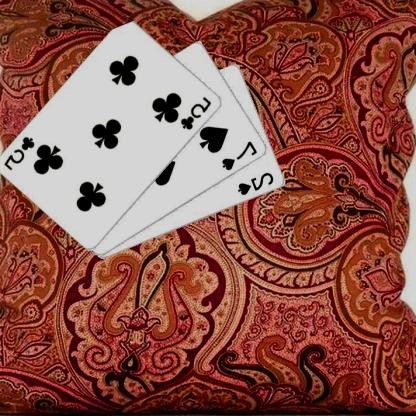2S: (237, 170, 277, 197)
5C: (180, 94, 215, 132), (3, 134, 38, 171)
7S: (222, 138, 260, 172)
